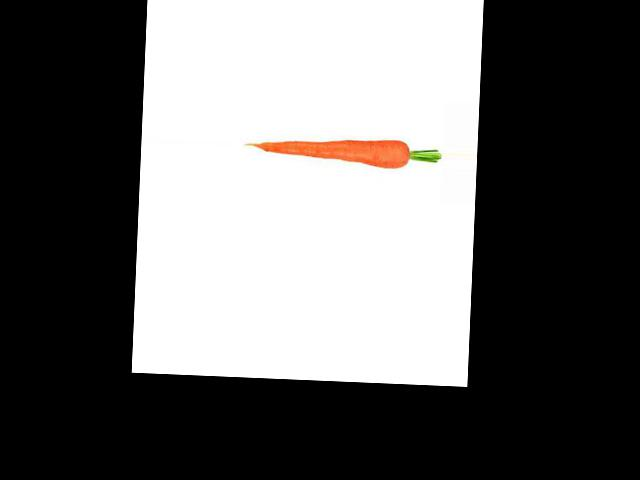carrot: (245, 127, 412, 171)
